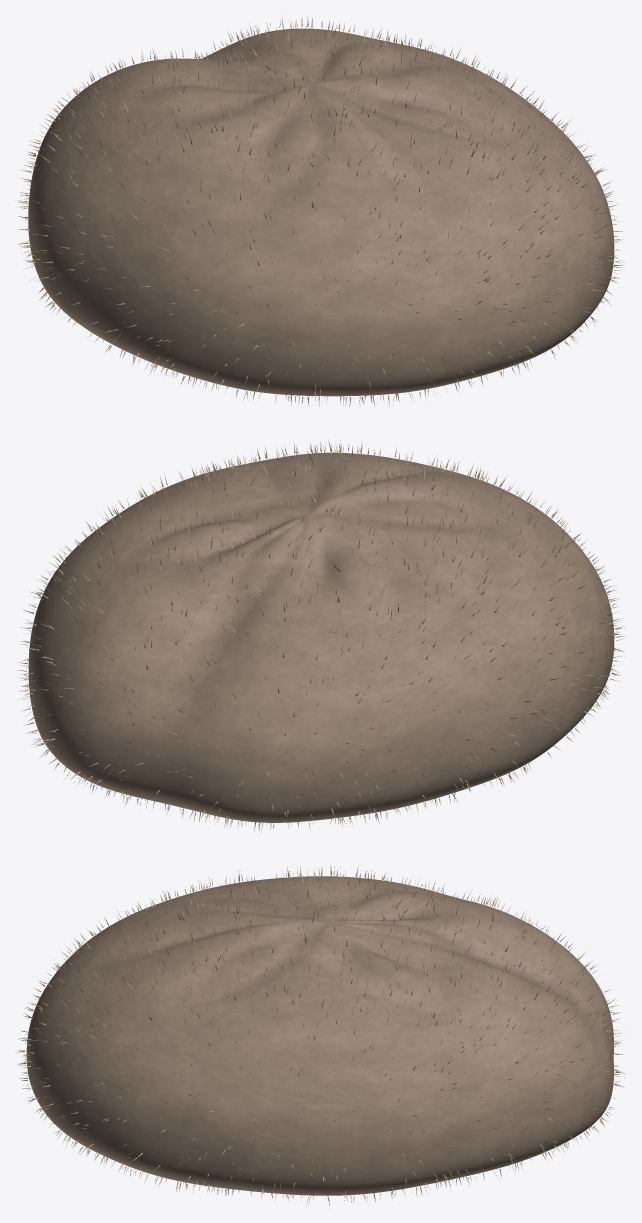
The model's file is Heart Urchin.glb.
3 views of the same model, one above another, from view 1: azimuth 30°, elevation 25°; view 2: azimuth 150°, elevation 25°; view 3: azimuth 270°, elevation 25° (orthographic). The views are drawn at different scales.
Parts seen in each view (by area): view 1: _V30_Body_Temporary, _V30_Spines_Temporary; view 2: _V30_Body_Temporary, _V30_Spines_Temporary; view 3: _V30_Body_Temporary, _V30_Spines_Temporary.
Part boxes in pixels (x1,y1,x2,y2): _V30_Body_Temporary: [28, 28, 614, 396]; _V30_Spines_Temporary: [15, 16, 623, 406]; _V30_Body_Temporary: [28, 452, 614, 822]; _V30_Spines_Temporary: [17, 440, 626, 832]; _V30_Body_Temporary: [26, 876, 613, 1195]; _V30_Spines_Temporary: [15, 865, 625, 1205].
Size of the model in its own units: 1.46 by 0.6656 by 1.65.
Materials: 2 (1 with a texture image).
